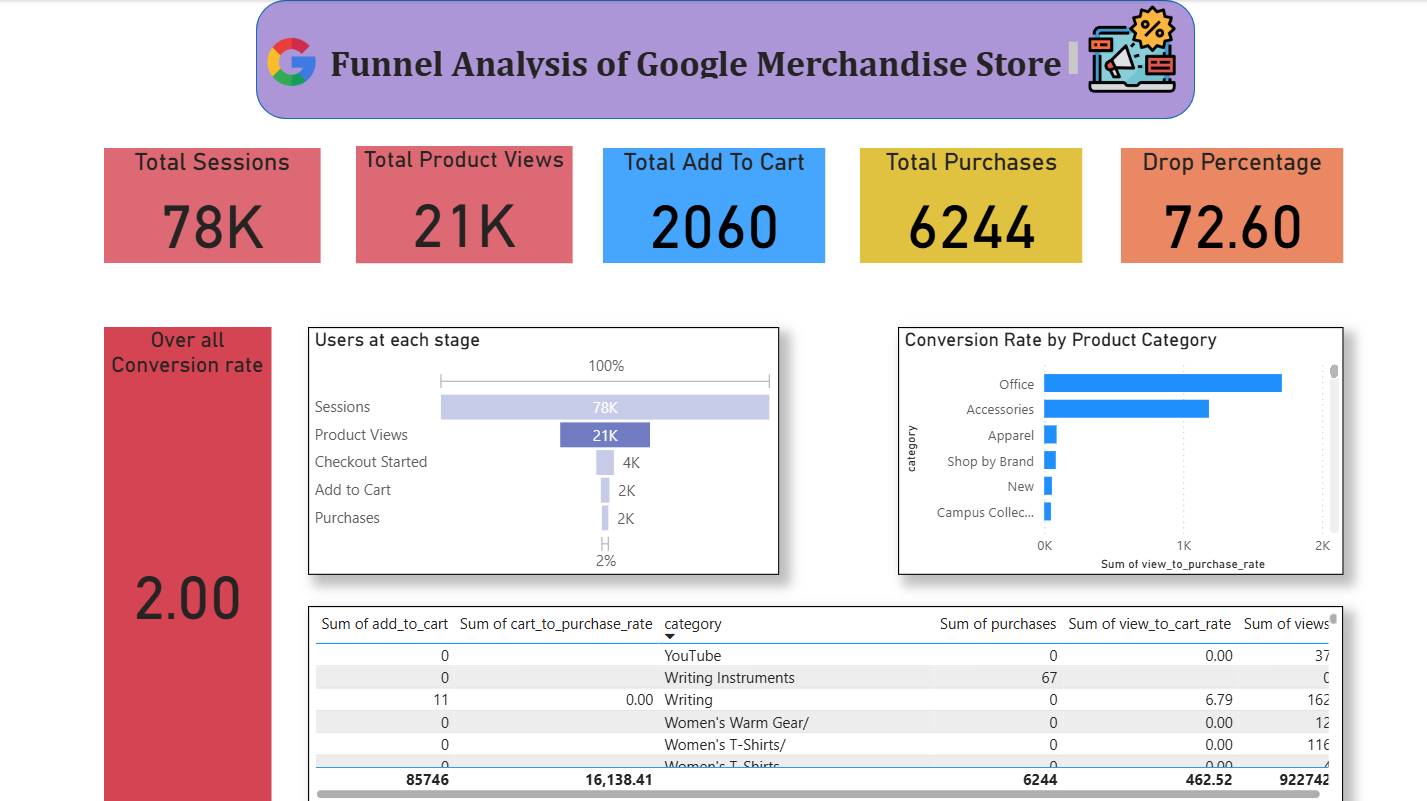

What the dashboard file says about the page in this screenshot:
{"tool":"powerbi","page":{"name":"Page 1","canvas":[1280,720],"ordinal":0},"visuals":[{"type":"funnel","title":"Users at each stage","fields":{"Category":["OverallFunnelTable.Stage"],"Y":["Sum(OverallFunnelTable.Users)"]},"box":[276.2,292.8,422.1,221.8],"z":0},{"type":"shape","box":[229.3,0,840.9,106.6],"z":1000},{"type":"image","box":[969.9,0,87.8,87.8],"z":2000},{"type":"textbox","box":[290.1,32.2,679.7,43],"z":3000},{"type":"image","box":[234.6,26,52.8,58.2],"z":4000},{"type":"clusteredBarChart","title":"Conversion Rate by Product Category","fields":{"Category":["category_funnel.category"],"Y":["Sum(category_funnel.view_to_purchase_rate)"]},"box":[804.4,292.8,398.8,221.8],"z":5000},{"type":"tableEx","fields":{"Values":["Sum(category_funnel.add_to_cart)","Sum(category_funnel.cart_to_purchase_rate)","category_funnel.category","Sum(category_funnel.purchases)","Sum(category_funnel.view_to_cart_rate)","Sum(category_funnel.views)"]},"box":[276.2,542.7,926.9,177],"z":6000},{"type":"card","title":"Total Sessions","fields":{"Values":["Sum(overall_funnel.sessions)"]},"box":[93.4,132.3,193.6,103.1],"z":7000},{"type":"card","title":"Total Purchases","fields":{"Values":["Sum(category_funnel.purchases)"]},"box":[770.3,132.3,199.4,103.1],"z":8000},{"type":"card","title":"Drop Percentage","fields":{"Values":["Sum(OverallFunnelTable.DropoffPercent)"]},"box":[1003.8,132.3,199.4,103.1],"z":9000},{"type":"card","title":"Total Add To Cart","fields":{"Values":["Sum(overall_funnel.add_to_cart)"]},"box":[539.8,132.3,199.4,103.1],"z":9001},{"type":"card","title":"Total Product Views","fields":{"Values":["Sum(overall_funnel.product_views)"]},"box":[319,130.3,193.6,105],"z":9002},{"type":"card","title":"Over all Conversion rate","fields":{"Values":["OverallFunnelTable.OverallConversionRate"]},"box":[93.4,292.8,149.8,427],"z":9003}]}

Visuals, with their boxes in screenshot pixels (x1, y1, x2, y2), scaled from the page's 1280x720 canvas onto the 1427x801 screenshot:
"Users at each stage" funnel: 308,326,778,572
shape: 256,0,1193,119
image: 1081,0,1179,98
textbox: 323,36,1081,84
image: 262,29,320,94
"Conversion Rate by Product Category" clusteredBarChart: 897,326,1341,572
tableEx - Sum(category_funnel.add_to_cart) x Sum(category_funnel.cart_to_purchase_rate): 308,604,1341,800
"Total Sessions" card: 104,147,320,262
"Total Purchases" card: 859,147,1081,262
"Drop Percentage" card: 1119,147,1341,262
"Total Add To Cart" card: 602,147,824,262
"Total Product Views" card: 356,145,571,262
"Over all Conversion rate" card: 104,326,271,800
